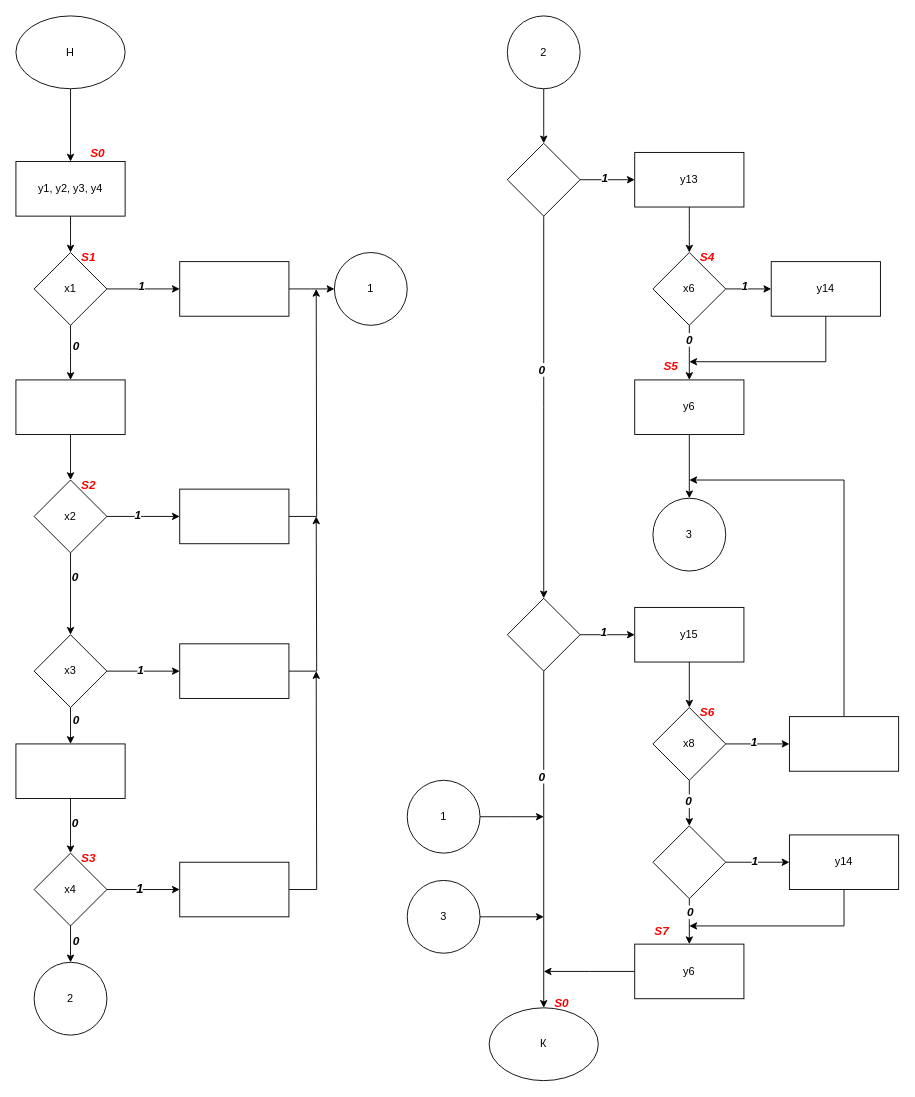
Some shapes in this 915 by 1097 pixel diagram are drawn without their labels. Each missing label, with the centre of its shape:
"x5" belongs at [543,179].
"x7" belongs at [543,634].
"x9" belongs at [689,862].
"y10, y11" belongs at [70,771].
"y12, y6" belongs at [234,889].
"y16, y6" belongs at [844,743].
"y5, y6" belongs at [234,288].
"y7" belongs at [70,407].
"y8, y6" belongs at [234,516].
"y9, y6" belongs at [234,670].
